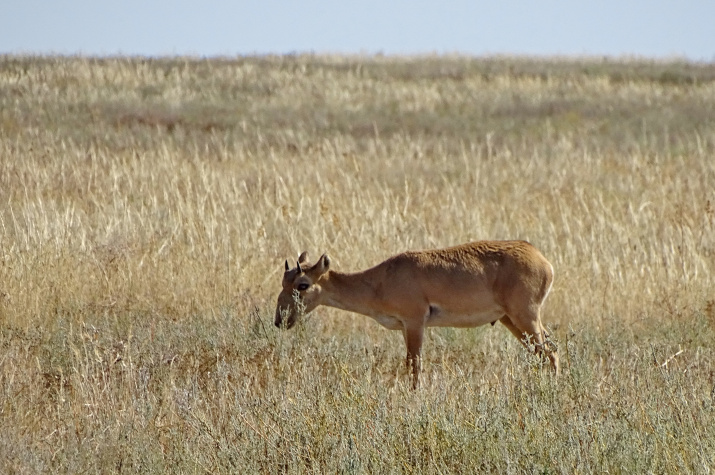saiga: (269, 239, 575, 388)
